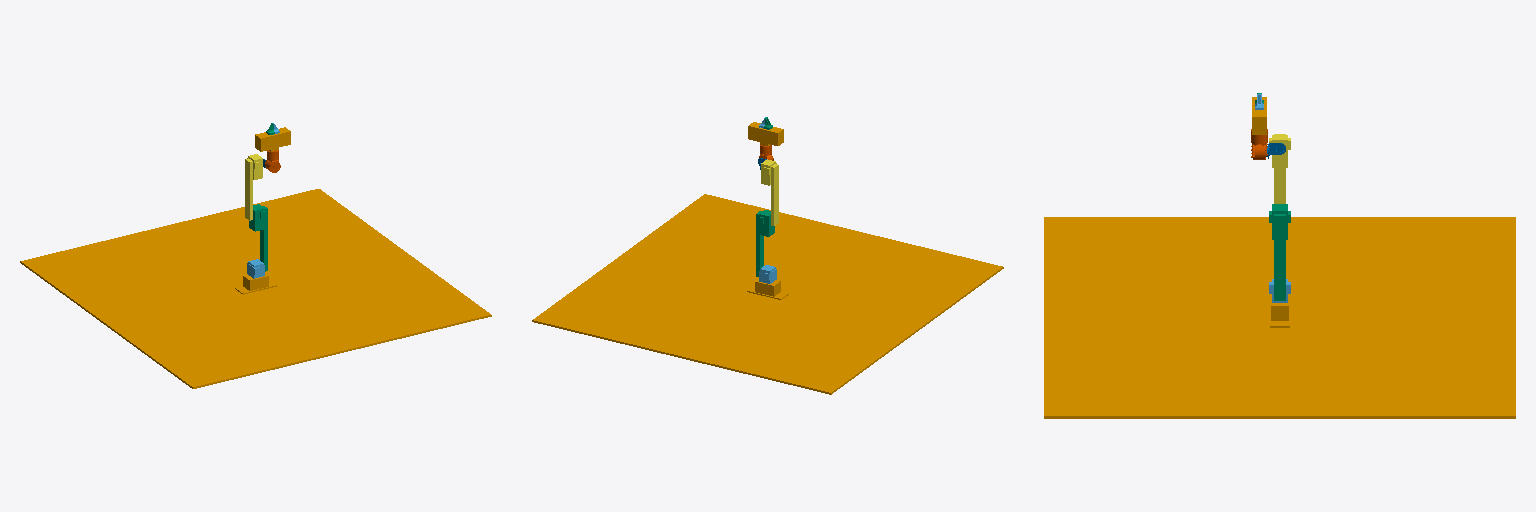
robot.urdf — ulixarm:
<?xml version="1.0" ?>
<!-- =================================================================================== -->
<!-- |    This document was autogenerated by xacro from src/ulixarm_description/urdf/robot.urdf.xacro | -->
<!-- |    EDITING THIS FILE BY HAND IS NOT RECOMMENDED                                 | -->
<!-- =================================================================================== -->
<robot name="ulixarm">
  <!-- CONSTANTS -->
  <!-- LINKS -->
  <link name="manipulator_base_link">
    <visual>
      <origin xyz="0. 0. 0."/>
      <geometry>
        <mesh filename="package://ulixarm_description/meshes/visual/base.stl"/>
      </geometry>
    </visual>
    <collision>
      <origin xyz="0. 0. 0."/>
      <geometry>
        <mesh filename="package://ulixarm_description/meshes/collision/base.stl"/>
      </geometry>
    </collision>
    <!-- <inertial>
                <origin xyz="0. 0. 0."/>
                <mass value="0.0001"/>
                <inertia ixx="0.0001" ixy="0.0" ixz="0.0" iyy="0.0001" iyz="0.0" izz="0.0001"/>
            </inertial> -->
  </link>
  <link name="manipulator_link1">
    <visual>
      <origin xyz="0. 0. 0."/>
      <geometry>
        <mesh filename="package://ulixarm_description/meshes/visual/joint1.stl"/>
      </geometry>
    </visual>
    <collision>
      <origin xyz="0. 0. 0."/>
      <geometry>
        <mesh filename="package://ulixarm_description/meshes/collision/joint1.stl"/>
      </geometry>
    </collision>
    <inertial>
      <origin xyz="0. 0. 0.037"/>
      <mass value="0.480"/>
      <inertia ixx="0.0001" ixy="0.0" ixz="0.0" iyy="0.0001" iyz="0.0" izz="0.0001"/>
    </inertial>
  </link>
  <link name="manipulator_link2">
    <visual>
      <origin xyz="0. 0. 0."/>
      <geometry>
        <mesh filename="package://ulixarm_description/meshes/visual/link1.stl"/>
      </geometry>
    </visual>
    <collision>
      <origin xyz="0. 0. 0."/>
      <geometry>
        <mesh filename="package://ulixarm_description/meshes/collision/link1.stl"/>
      </geometry>
    </collision>
    <inertial>
      <origin xyz="0.197 0. -0.004"/>
      <mass value="0.690"/>
      <inertia ixx="0.0001" ixy="0.0" ixz="0.0" iyy="0.0001" iyz="0.0" izz="0.0001"/>
    </inertial>
  </link>
  <link name="manipulator_link3">
    <visual>
      <origin xyz="0. 0. 0."/>
      <geometry>
        <mesh filename="package://ulixarm_description/meshes/visual/link2.stl"/>
      </geometry>
    </visual>
    <collision>
      <origin xyz="0. 0. 0."/>
      <geometry>
        <mesh filename="package://ulixarm_description/meshes/collision/link2.stl"/>
      </geometry>
    </collision>
    <inertial>
      <origin xyz="0.197 0. -0.004"/>
      <mass value="0.680"/>
      <!-- <mass value="0.690"/> -->
      <inertia ixx="0.0001" ixy="0.0" ixz="0.0" iyy="0.0001" iyz="0.0" izz="0.0001"/>
    </inertial>
  </link>
  <link name="manipulator_link4">
    <visual>
      <origin xyz="0. 0. 0."/>
      <geometry>
        <mesh filename="package://ulixarm_description/meshes/visual/joint4.stl"/>
      </geometry>
    </visual>
    <collision>
      <origin xyz="0. 0. 0."/>
      <geometry>
        <mesh filename="package://ulixarm_description/meshes/collision/joint4.stl"/>
      </geometry>
    </collision>
    <inertial>
      <origin xyz="0.022 0.0 0.018"/>
      <!-- <mass value="0.100"/> -->
      <mass value="0.100"/>
      <inertia ixx="0.0001" ixy="0.0" ixz="0.0" iyy="0.0001" iyz="0.0" izz="0.0001"/>
    </inertial>
  </link>
  <link name="manipulator_link5">
    <visual>
      <origin xyz="0. 0. 0."/>
      <geometry>
        <mesh filename="package://ulixarm_description/meshes/visual/joint5.stl"/>
      </geometry>
    </visual>
    <collision>
      <origin xyz="0. 0. 0."/>
      <geometry>
        <mesh filename="package://ulixarm_description/meshes/collision/joint5.stl"/>
      </geometry>
    </collision>
    <inertial>
      <origin xyz="0.030 0.0 -0.023"/>
      <!-- <mass value="0.700"/> -->
      <mass value="0.700"/>
      <inertia ixx="0.0001" ixy="0.0" ixz="0.0" iyy="0.0001" iyz="0.0" izz="0.0001"/>
    </inertial>
  </link>
  <link name="manipulator_link6">
    <inertial>
      <origin xyz="0. 0. 0."/>
      <mass value="0.001"/>
      <inertia ixx="0.0001" ixy="0.0" ixz="0.0" iyy="0.0001" iyz="0.0" izz="0.0001"/>
    </inertial>
  </link>
  <link name="manipulator_tool0">
    <inertial>
      <origin xyz="0. 0. 0."/>
      <mass value="0.001"/>
      <inertia ixx="0.0001" ixy="0.0" ixz="0.0" iyy="0.0001" iyz="0.0" izz="0.0001"/>
    </inertial>
  </link>
  <!-- JOINTS -->
  <joint name="joint1" type="revolute">
    <origin rpy="0. 0. 0." xyz="0. 0. 0.0533"/>
    <parent link="manipulator_base_link"/>
    <child link="manipulator_link1"/>
    <axis xyz="0 0 1"/>
    <limit effort="27.0" lower="-1.570796326795" upper="1.570796326795" velocity="8.0"/>
  </joint>
  <joint name="joint2" type="revolute">
    <origin rpy="3.14159265359 -1.570796326795 0." xyz="0.027175 0. 0.0425"/>
    <parent link="manipulator_link1"/>
    <child link="manipulator_link2"/>
    <axis xyz="0 0 1"/>
    <limit effort="27.0" lower="-1.570796326795" upper="1.570796326795" velocity="8.0"/>
  </joint>
  <joint name="joint3" type="revolute">
    <origin rpy="3.14159265359 0. 0." xyz="0.280 0. -0.0473"/>
    <parent link="manipulator_link2"/>
    <child link="manipulator_link3"/>
    <axis xyz="0 0 1"/>
    <limit effort="27.0" lower="-1.570796326795" upper="2.7925268" velocity="8.0"/>
  </joint>
  <joint name="joint4" type="revolute">
    <origin rpy="3.14159265359 0. -1.570796326795" xyz="0.260 0. -0.040"/>
    <parent link="manipulator_link3"/>
    <child link="manipulator_link4"/>
    <axis xyz="0 0 1"/>
    <limit effort="10.0" lower="-3.14159265359" upper="1.570796326795" velocity="30.0"/>
  </joint>
  <joint name="joint5" type="revolute">
    <origin rpy="1.570796326795 0. -1.570796326795" xyz="0.046 0. 0.031"/>
    <parent link="manipulator_link4"/>
    <child link="manipulator_link5"/>
    <axis xyz="0 0 -1"/>
    <limit effort="10.0" lower="-1.570796326795" upper="1.570796326795" velocity="30.0"/>
  </joint>
  <joint name="joint6" type="revolute">
    <origin rpy="1.570796326795 0. 1.570796326795" xyz="0.0825 0. -0.0235"/>
    <parent link="manipulator_link5"/>
    <child link="manipulator_link6"/>
    <axis xyz="0 0 1"/>
    <limit effort="10.0" lower="-1.570796326795" upper="1.570796326795" velocity="30.0"/>
  </joint>
  <joint name="joint_tool0" type="fixed">
    <parent link="manipulator_link6"/>
    <child link="manipulator_tool0"/>
  </joint>
  <!-- CONSTANTS -->
  <!-- LINKS -->
  <link name="gripper_base_link">
    <visual>
      <origin xyz="0. 0. 0."/>
      <geometry>
        <mesh filename="package://ulixarm_description/meshes/visual/gripper_base.stl"/>
      </geometry>
    </visual>
    <collision>
      <origin xyz="0. 0. 0."/>
      <geometry>
        <mesh filename="package://ulixarm_description/meshes/collision/gripper_base.stl"/>
      </geometry>
    </collision>
    <inertial>
      <origin xyz="0. 0. 0.052"/>
      <!-- <mass value="0.500"/> -->
      <mass value="1.000"/>
      <inertia ixx="0.0001" ixy="0.0" ixz="0.0" iyy="0.0001" iyz="0.0" izz="0.0001"/>
    </inertial>
  </link>
  <link name="gripper_finger_right">
    <visual>
      <origin xyz="0. 0. 0."/>
      <geometry>
        <mesh filename="package://ulixarm_description/meshes/visual/finger.stl"/>
      </geometry>
    </visual>
    <collision>
      <origin xyz="0. 0. 0."/>
      <geometry>
        <mesh filename="package://ulixarm_description/meshes/collision/finger.stl"/>
      </geometry>
    </collision>
    <inertial>
      <origin xyz="0.008 0.002 -0.052"/>
      <mass value="0.075"/>
      <inertia ixx="0.0001" ixy="0.0" ixz="0.0" iyy="0.0001" iyz="0.0" izz="0.0001"/>
    </inertial>
  </link>
  <link name="gripper_finger_left">
    <visual>
      <origin xyz="0. 0. 0."/>
      <geometry>
        <mesh filename="package://ulixarm_description/meshes/visual/finger.stl"/>
      </geometry>
    </visual>
    <collision>
      <origin xyz="0. 0. 0."/>
      <geometry>
        <mesh filename="package://ulixarm_description/meshes/collision/finger.stl"/>
      </geometry>
    </collision>
    <inertial>
      <origin xyz="0.008 0.002 -0.052"/>
      <mass value="0.075"/>
      <inertia ixx="0.0001" ixy="0.0" ixz="0.0" iyy="0.0001" iyz="0.0" izz="0.0001"/>
    </inertial>
  </link>
  <!-- JOINTS -->
  <joint name="finger_right_joint" type="prismatic">
    <origin rpy="0. 0. 0." xyz="0. 0. 0.1349"/>
    <parent link="gripper_base_link"/>
    <child link="gripper_finger_right"/>
    <axis xyz="1 0 0"/>
    <limit effort="0.1" lower="0.0" upper="0.04" velocity="0.5"/>
  </joint>
  <joint name="finger_left_joint" type="prismatic">
    <origin rpy="0. 0. 3.14159265359" xyz="0. 0. 0.1349"/>
    <parent link="gripper_base_link"/>
    <child link="gripper_finger_left"/>
    <axis xyz="1 0 0"/>
    <mimic joint="finger_right_joint" multiplier="1" offset="0"/>
    <limit effort="0.1" lower="0.0" upper="0.04" velocity="0.5"/>
  </joint>
  <!-- Attach gripper base to the arm's end-effector link -->
  <joint name="manipulator_to_gripper" type="fixed">
    <parent link="manipulator_tool0"/>
    <child link="gripper_base_link"/>
    <origin rpy="0 0 0" xyz="0 0 0"/>
  </joint>
</robot>

--- Render facts (derived) ---
The picture shows the robot from 3 angles, left to right: view 1: azimuth 30°, elevation 25°; view 2: azimuth 150°, elevation 25°; view 3: azimuth 270°, elevation 25°; orthographic projection.
Model ulixarm with 11 links and 10 joints (6 revolute, 2 prismatic, 2 fixed), rooted at manipulator_base_link, posed all joints at 0.
Links seen in each view (by area): view 1: manipulator_base_link, manipulator_link3, manipulator_link2, gripper_base_link; view 2: manipulator_base_link, manipulator_link3, manipulator_link2, gripper_base_link; view 3: manipulator_base_link, manipulator_link2, manipulator_link3.
Boxes of the visible links, x1,y1,x2,y2 form: manipulator_base_link: [20, 189, 491, 388]; manipulator_link3: [245, 154, 262, 220]; manipulator_link2: [249, 204, 267, 271]; gripper_base_link: [255, 127, 290, 151]; manipulator_base_link: [532, 194, 1003, 394]; manipulator_link3: [761, 159, 778, 225]; manipulator_link2: [756, 210, 774, 276]; gripper_base_link: [748, 122, 783, 145]; manipulator_base_link: [1044, 217, 1515, 418]; manipulator_link2: [1269, 204, 1290, 300]; manipulator_link3: [1269, 134, 1290, 203].
Bounding box of the posed robot: 1.6 × 1.6 × 0.8692 m (x, y, z).
9 mesh visuals loaded from 8 distinct referenced files (8 binary STL).
